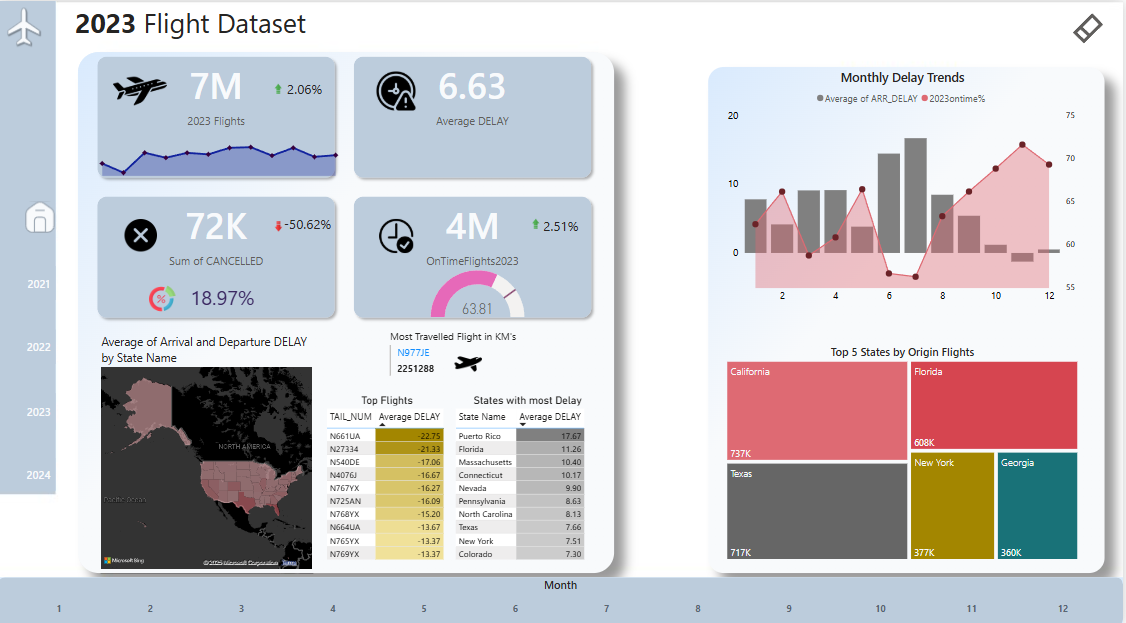

The page's visual inventory and layout, read from the dashboard file:
{"tool":"powerbi","page":{"name":"2023","canvas":[1800,1000],"ordinal":3},"visuals":[{"type":"actionButton","box":[0,0,92,784],"z":0,"group":"g2"},{"type":"textbox","box":[117.5,0,607.5,85],"z":0},{"type":"group","id":"g1","title":"Group 1","box":[38,424,54.1,359.2],"z":0,"group":"g3"},{"type":"actionButton","box":[38,424,54.1,54.5],"z":0,"group":"g1"},{"type":"actionButton","box":[0,922,1800,78],"z":0,"group":"g4"},{"type":"actionButton","box":[0,0,92.5,85],"z":1000,"group":"g2"},{"type":"cardVisual","fields":{"Data":["2023.2023 Flights","Sum(2023.CANCELLED)","Avg(2023.ARR_DELAY)","2023.OnTimeFlights2023"]},"box":[142.5,72.5,825,452.5],"z":1000},{"type":"actionButton","box":[41.8,316.1,50.3,60],"z":1000,"group":"g3"},{"type":"actionButton","box":[38,525.9,54.1,54.5],"z":1000,"group":"g1"},{"type":"slicer","title":"Month","fields":{"Values":["2021.MONTH"]},"box":[0,922,1800,78],"z":1000,"group":"g4"},{"type":"group","id":"g2","title":"Group 3","box":[0,0,92,784],"z":2000},{"type":"group","id":"g3","title":"Group 2","box":[38,316.1,54.1,467.1],"z":2000,"group":"g2"},{"type":"actionButton","box":[38,627.7,54.1,57.9],"z":2000,"group":"g1"},{"type":"actionButton","box":[38.3,733,53.8,50.2],"z":3000,"group":"g1"},{"type":"group","id":"g4","title":"Group 4","box":[0,922,1800,78],"z":3000},{"type":"treemap","title":"Top 5 States by Origin Flights","fields":{"Values":["2023.2023 Flights"],"Group":["2023.ORIGIN_STATE_NM"]},"box":[1162,550,570,348],"z":4000},{"type":"lineClusteredColumnComboChart","title":"Monthly Delay Trends","fields":{"Category":["2023.MONTH"],"Y":["Avg(2023.ARR_DELAY)"],"Y2":["2023.2023ontime%"]},"box":[1162,108,570,384],"z":5000},{"type":"lineChart","fields":{"Y":["2023.2023 Flights"],"Category":["2023.MONTH"]},"box":[117.5,200,437.5,85],"z":6000},{"type":"gauge","fields":{"Y":["2023.2023ontime%"]},"box":[670,425,195,85],"z":7000},{"type":"filledMap","title":"Average of Arrival and Departure DELAY by State Name","fields":{"Category":["2023.ORIGIN_STATE_NM"]},"box":[160,532.5,347.5,382.5],"z":8000},{"type":"tableEx","title":"Top Flights ","fields":{"Values":["2023.TAIL_NUM","Avg(2023.ARR_DELAY)"]},"box":[520,627.5,205,280],"z":9000},{"type":"card","fields":{"Values":["2023.2023percentcancel"]},"box":[197.5,437.5,322.5,72.5],"z":10000},{"type":"image","box":[187.5,450,150,52.5],"z":11000},{"type":"tableEx","title":"States with most Delay","fields":{"Values":["2023.DEST_STATE_NM","Avg(2023.ARR_DELAY)"]},"box":[725,627.5,242.5,280],"z":12000},{"type":"actionButton","box":[1687.5,16.2,112.5,56.2],"z":13000},{"type":"multiRowCard","title":"Most Travelled Flight in KM''s","fields":{"Values":["2023.TAIL_NUM","Sum(2023.DISTANCE)"]},"box":[622,524,258,102],"z":14000},{"type":"image","box":[712,554,80,54],"z":15000},{"type":"image","box":[152,96,150,96],"z":16000},{"type":"image","box":[188,344,80,62],"z":17000},{"type":"image","box":[552,108,170,72],"z":18000},{"type":"image","box":[562,340,150,72],"z":19000},{"type":"card","fields":{"Values":["2023.YOY2023 flights"]},"box":[448,128,86,30],"z":20000},{"type":"image","box":[433,121,29,37],"z":21000},{"type":"card","fields":{"Values":["2023.YOY2023 cancel"]},"box":[448,344,95,30],"z":22000},{"type":"card","fields":{"Values":["2023.YOY2023ontime"]},"box":[857,345,86,30],"z":23000},{"type":"image","box":[846,338,29,37],"z":24000},{"type":"image","box":[429,345,38,30],"z":25000}]}

Visuals, with their boxes on the page's 1800x1000 design canvas (x1, y1, x2, y2). These are canvas units, not pixel positions in the 1126x623 screenshot, which may show the page scaled, cropped or inside an application window:
actionButton: [x1=0, y1=0, x2=92, y2=784]
textbox: [x1=118, y1=0, x2=725, y2=85]
"Group 1" group: [x1=38, y1=424, x2=92, y2=783]
actionButton: [x1=38, y1=424, x2=92, y2=478]
actionButton: [x1=0, y1=922, x2=1800, y2=1000]
actionButton: [x1=0, y1=0, x2=92, y2=85]
cardVisual - 2023.2023 Flights x Sum(2023.CANCELLED): [x1=142, y1=72, x2=968, y2=525]
actionButton: [x1=42, y1=316, x2=92, y2=376]
actionButton: [x1=38, y1=526, x2=92, y2=580]
"Month" slicer: [x1=0, y1=922, x2=1800, y2=1000]
"Group 3" group: [x1=0, y1=0, x2=92, y2=784]
"Group 2" group: [x1=38, y1=316, x2=92, y2=783]
actionButton: [x1=38, y1=628, x2=92, y2=686]
actionButton: [x1=38, y1=733, x2=92, y2=783]
"Group 4" group: [x1=0, y1=922, x2=1800, y2=1000]
"Top 5 States by Origin Flights" treemap: [x1=1162, y1=550, x2=1732, y2=898]
"Monthly Delay Trends" lineClusteredColumnComboChart: [x1=1162, y1=108, x2=1732, y2=492]
lineChart - 2023.2023 Flights x 2023.MONTH: [x1=118, y1=200, x2=555, y2=285]
gauge - 2023.2023ontime%: [x1=670, y1=425, x2=865, y2=510]
"Average of Arrival and Departure DELAY by State Name" filledMap: [x1=160, y1=532, x2=508, y2=915]
"Top Flights " tableEx: [x1=520, y1=628, x2=725, y2=908]
card - 2023.2023percentcancel: [x1=198, y1=438, x2=520, y2=510]
image: [x1=188, y1=450, x2=338, y2=502]
"States with most Delay" tableEx: [x1=725, y1=628, x2=968, y2=908]
actionButton: [x1=1688, y1=16, x2=1800, y2=72]
"Most Travelled Flight in KM''s" multiRowCard: [x1=622, y1=524, x2=880, y2=626]
image: [x1=712, y1=554, x2=792, y2=608]
image: [x1=152, y1=96, x2=302, y2=192]
image: [x1=188, y1=344, x2=268, y2=406]
image: [x1=552, y1=108, x2=722, y2=180]
image: [x1=562, y1=340, x2=712, y2=412]
card - 2023.YOY2023 flights: [x1=448, y1=128, x2=534, y2=158]
image: [x1=433, y1=121, x2=462, y2=158]
card - 2023.YOY2023 cancel: [x1=448, y1=344, x2=543, y2=374]
card - 2023.YOY2023ontime: [x1=857, y1=345, x2=943, y2=375]
image: [x1=846, y1=338, x2=875, y2=375]
image: [x1=429, y1=345, x2=467, y2=375]
